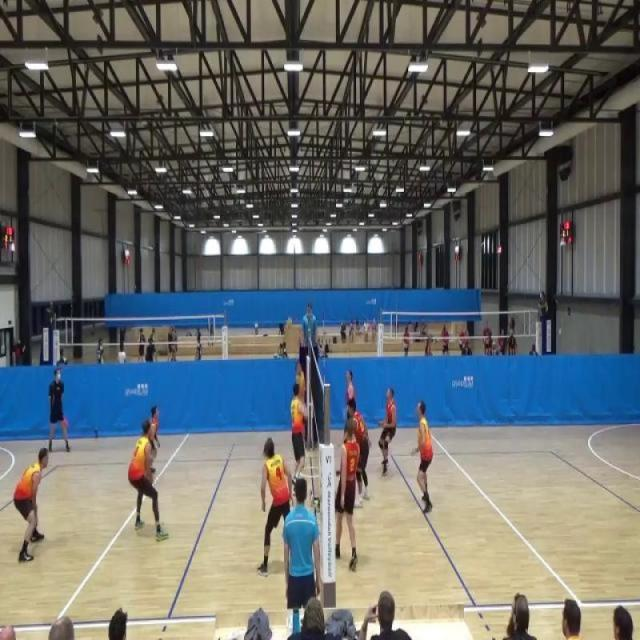volleyball: (286, 316, 294, 330)
